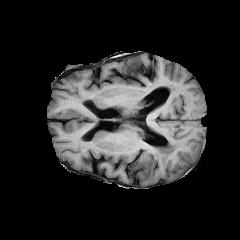glioma: (146, 142, 178, 169)
